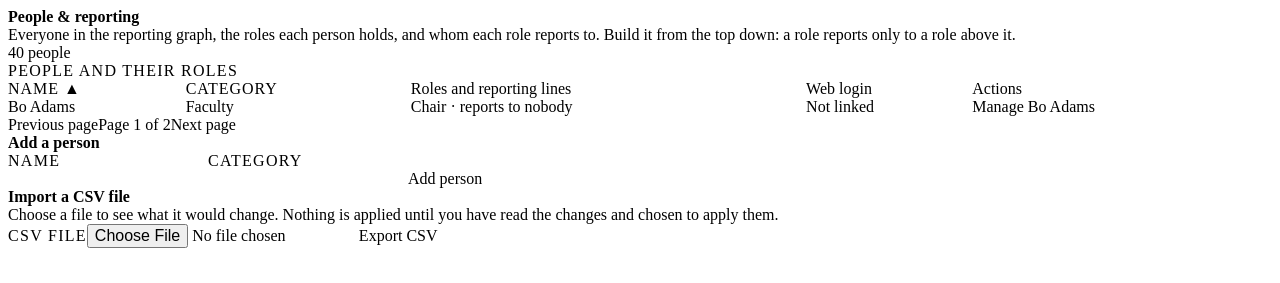
Test: /admin/people, the People & reporting table › pages: the next page is a request for the next page, and the first has no previous
Check: the table with test id "pulse-admin-people-table" is shown, box [8,62,1272,116]
Check: the text "Page 1 of 2" is shown, box [98,116,171,134]
Click the button "Next page" at (203, 125), box [171,116,236,134]
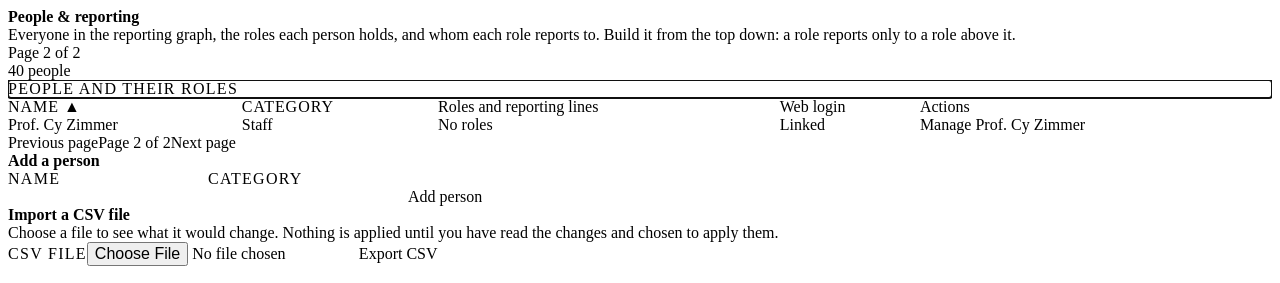
Check: the text "Page 2 of 2" is shown, box [98,134,171,152]
Check: the message reads "Page 2 of 2", box [8,44,80,61]
